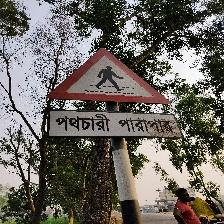Pedestrian-crossing: (45, 47, 181, 139)
